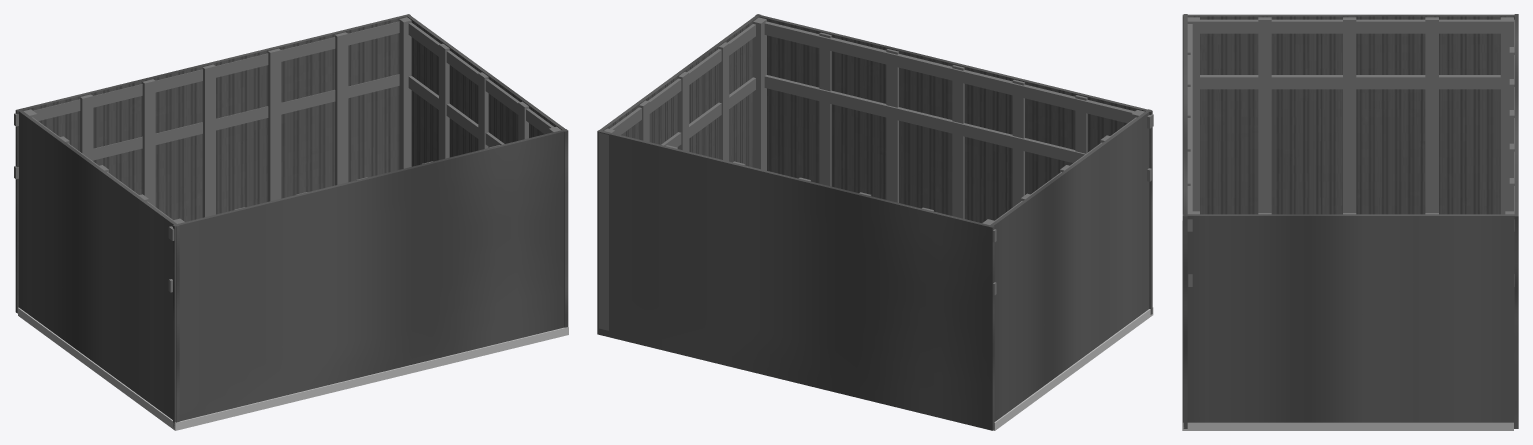
3 views of the same model, side by side, from view 1: azimuth 30°, elevation 25°; view 2: azimuth 150°, elevation 25°; view 3: azimuth 270°, elevation 25° (orthographic). The views are drawn at different scales.
Visible parts, largest first — view 1: polySurface33; view 2: polySurface33; view 3: polySurface33.
Boxes of the visible parts, left/top/right/bottom form: polySurface33: left=14, top=14, right=568, bottom=430; polySurface33: left=597, top=14, right=1153, bottom=430; polySurface33: left=1182, top=14, right=1518, bottom=430.
Size of the model in its own units: 2525 by 1245 by 1769.
